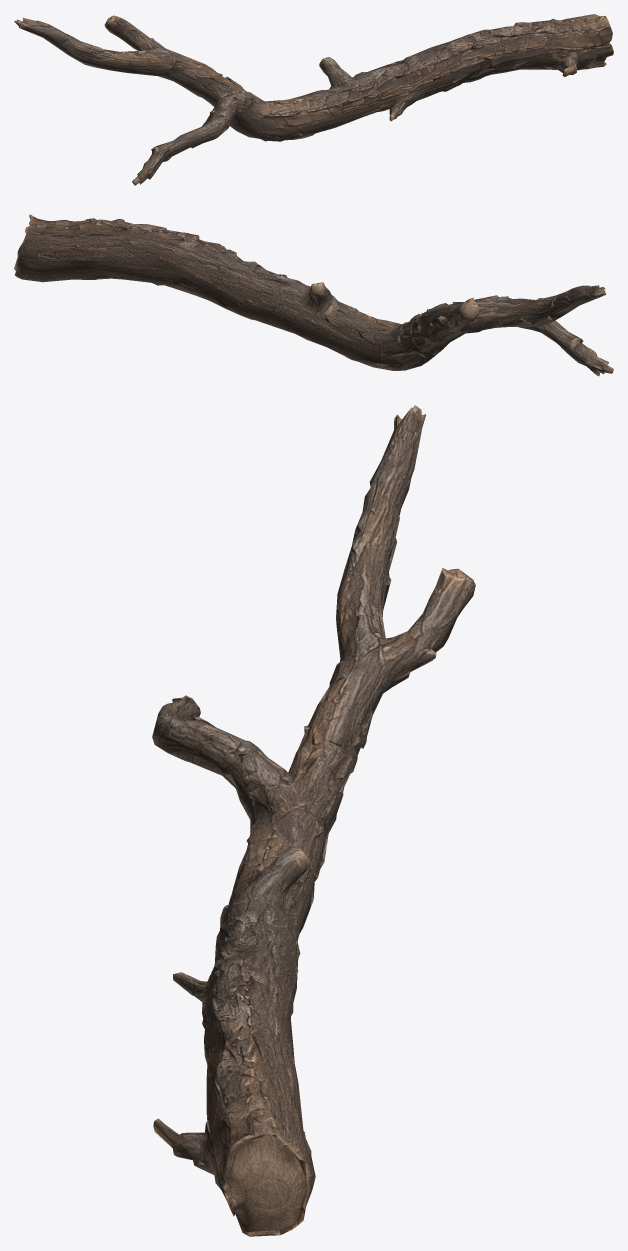
Rendered from Branch_004.fbx.
The picture shows the model from 3 angles, top to bottom: view 1: azimuth 30°, elevation 25°; view 2: azimuth 150°, elevation 25°; view 3: azimuth 270°, elevation 25°; orthographic projection. The views are drawn at different scales.
Parts seen in each view (by area): view 1: output_unwrapped; view 2: output_unwrapped; view 3: output_unwrapped.
Part boxes in pixels (x1=…): output_unwrapped: x1=14, y1=14, x2=613, y2=185; output_unwrapped: x1=14, y1=214, x2=613, y2=376; output_unwrapped: x1=152, y1=405, x2=475, y2=1236.
Size of the model in its own units: 190 by 49.58 by 48.25.
Materials: 1 (1 with a texture image).
